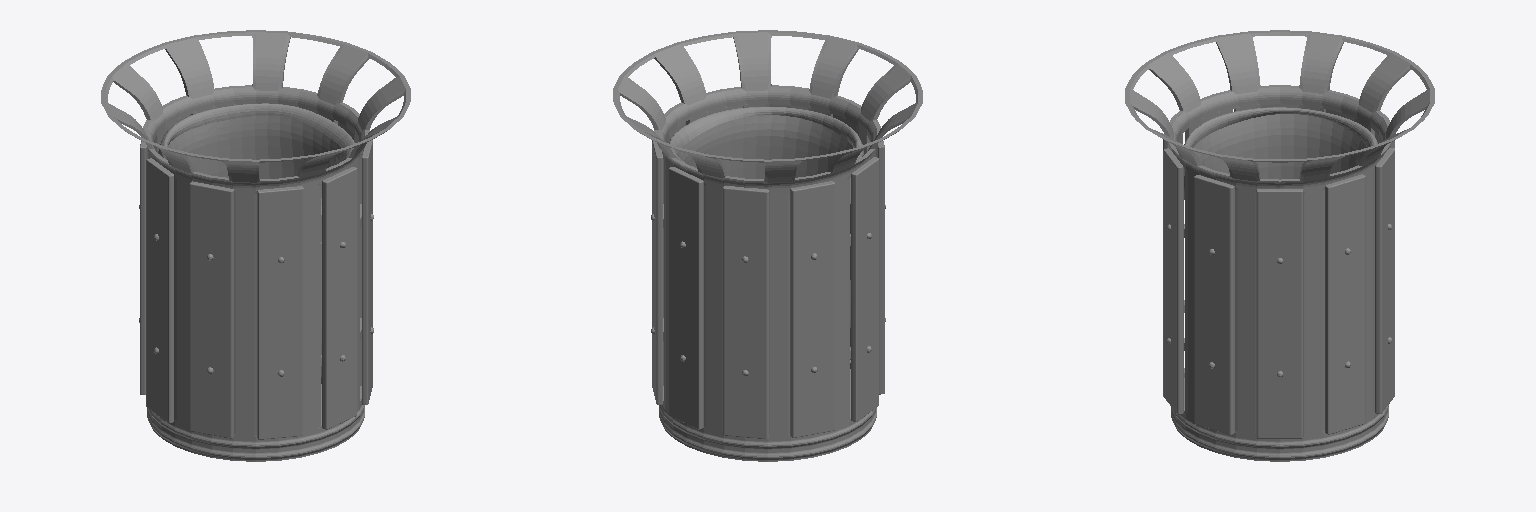
Rendered from bBasura.obj.
3 renders of one model, left to right at view 1: azimuth 30°, elevation 25°; view 2: azimuth 150°, elevation 25°; view 3: azimuth 270°, elevation 25°, orthographic.
Visible parts, largest first — view 1: classic_bin_001, classic_bin_inside_001; view 2: classic_bin_001, classic_bin_inside_001; view 3: classic_bin_001, classic_bin_inside_001.
Part boxes in pixels (bbox=[...]): classic_bin_001: bbox=[101, 30, 410, 461]; classic_bin_inside_001: bbox=[158, 103, 354, 383]; classic_bin_001: bbox=[613, 30, 922, 461]; classic_bin_inside_001: bbox=[669, 107, 863, 327]; classic_bin_001: bbox=[1125, 30, 1434, 461]; classic_bin_inside_001: bbox=[1184, 107, 1377, 199].
Size of the model in its own units: 65.89 by 75 by 65.75.